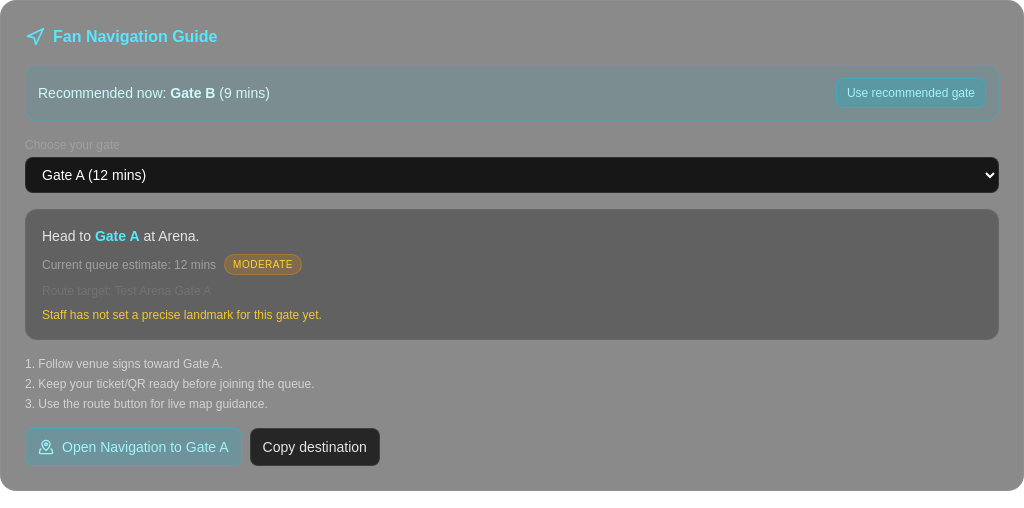
FanGateGuide › updates route target when selected gate changes
The image size is (1024, 508).
Step 1. Select "Gate B (9 mins)" in the dropdown → point(512, 175), box [25,157,999,193]
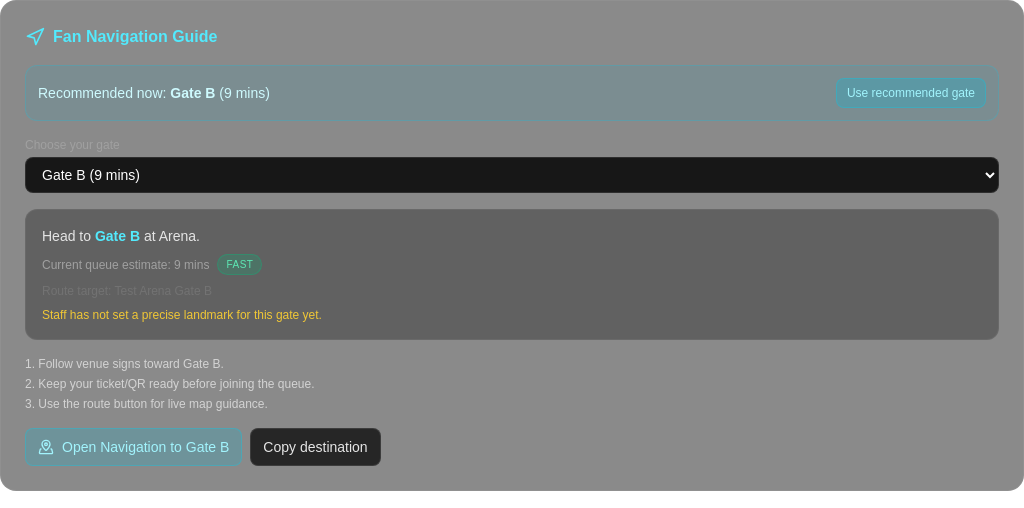
Result: the link "Open Navigation to Gate B" is shown at [25,428,242,466]
